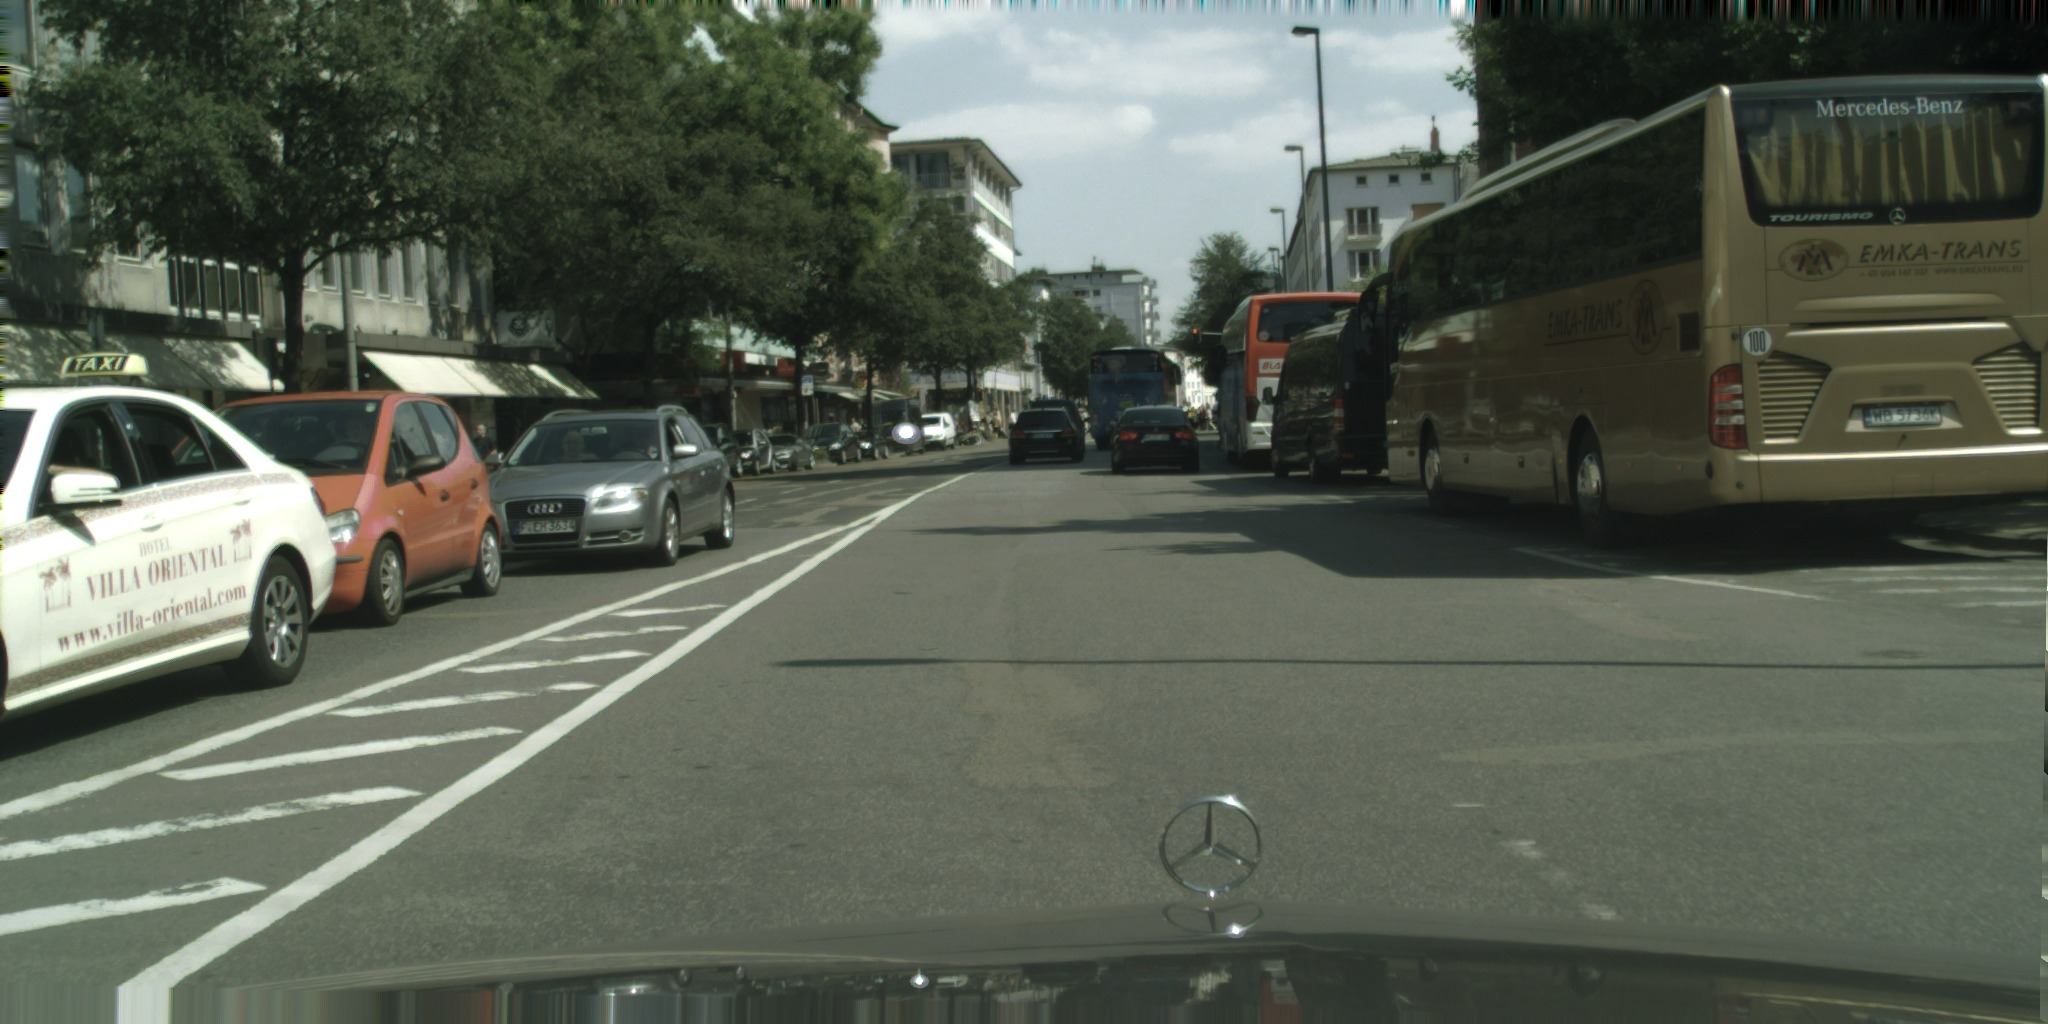bus: (1357, 72, 2047, 546), (1205, 292, 1373, 471), (1088, 345, 1182, 451)
car: (0, 351, 338, 731), (168, 388, 502, 629), (468, 404, 736, 574), (1263, 307, 1449, 484), (1108, 404, 1199, 475), (1008, 407, 1083, 465), (1029, 400, 1090, 454), (870, 398, 926, 456), (795, 420, 863, 465), (695, 420, 744, 478), (720, 427, 777, 476), (763, 434, 816, 472), (916, 411, 956, 451), (848, 429, 890, 461)
person: (463, 423, 499, 483), (978, 409, 1002, 440), (1068, 407, 1093, 435), (846, 417, 863, 438), (1205, 403, 1217, 432), (992, 409, 1002, 439), (1198, 405, 1206, 430)
